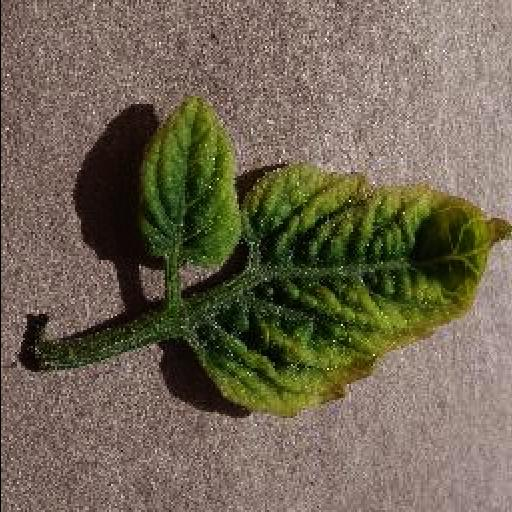disease_tomato: (188, 163, 512, 415), (137, 96, 243, 266)
